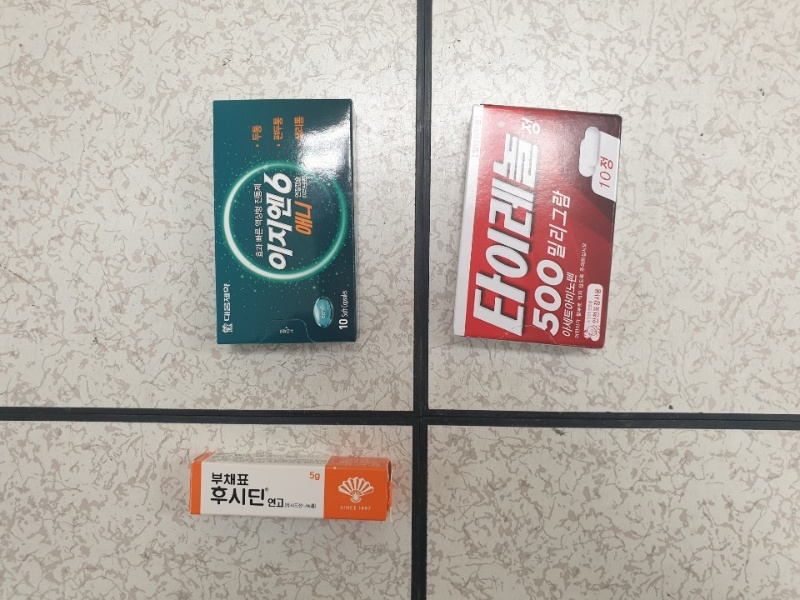ezn: (213, 101, 354, 344)
fucidin: (192, 454, 390, 518)
tylenol: (454, 105, 622, 348)
